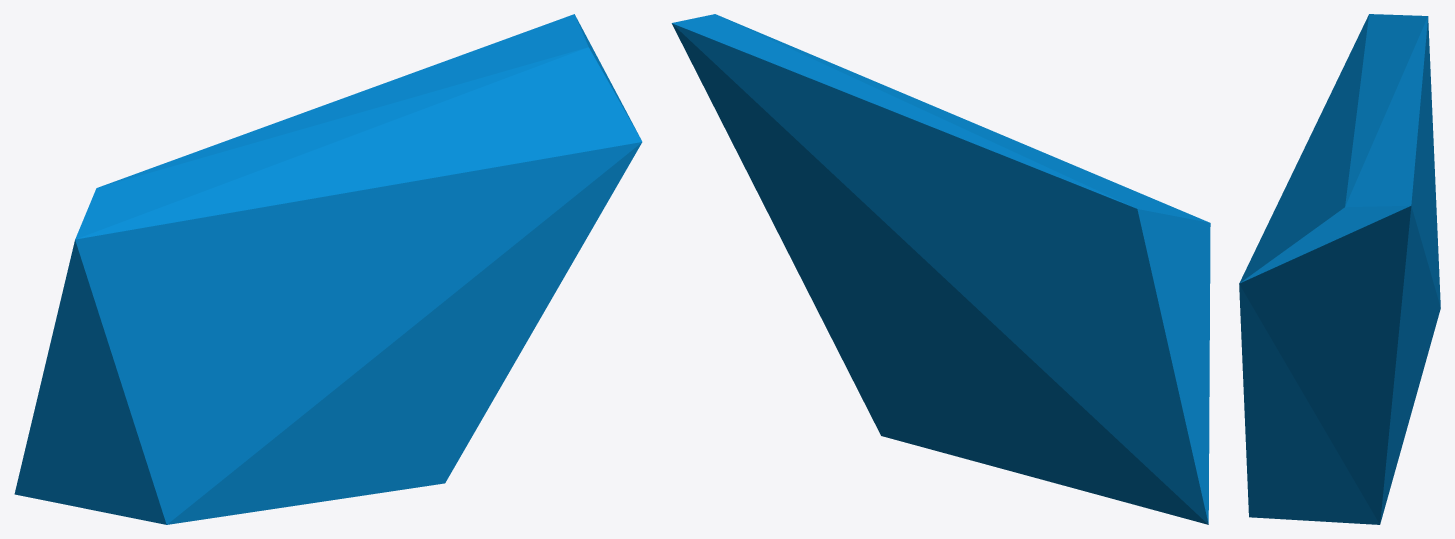
Rendered from torso_convex_piece_026.obj.
The picture shows the model from 3 angles, left to right: view 1: azimuth 30°, elevation 25°; view 2: azimuth 150°, elevation 25°; view 3: azimuth 270°, elevation 25°; orthographic projection. The views are drawn at different scales.
Size of the model in its own units: 0.0909 by 0.0592 by 0.0252.
